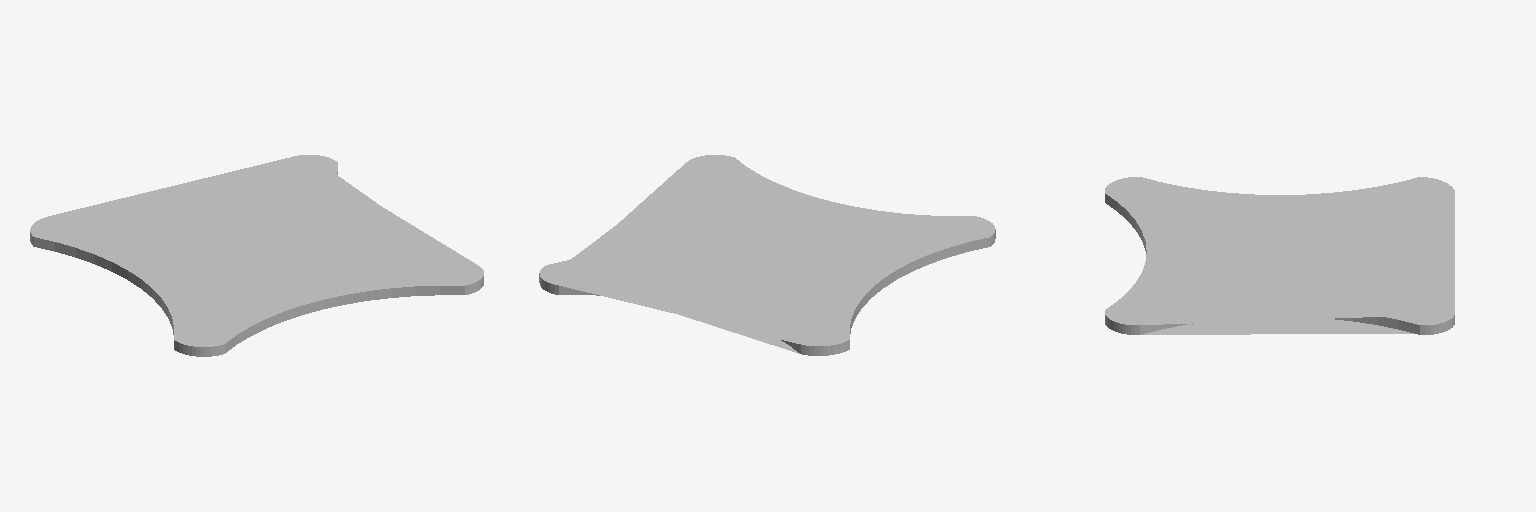
Rendered from quadruped_base.obj.
3 renders of one model, left to right at view 1: azimuth 30°, elevation 25°; view 2: azimuth 150°, elevation 25°; view 3: azimuth 270°, elevation 25°, orthographic.
Parts seen in each view (by area): view 1: Mesh1 Model; view 2: Mesh1 Model; view 3: Mesh1 Model.
Boxes of the visible parts, box(x1,y1,x2,y2) form: Mesh1 Model: box(30, 155, 483, 356); Mesh1 Model: box(539, 155, 995, 355); Mesh1 Model: box(1105, 177, 1454, 334).
Size of the model in its own units: 0.153 by 0.0047 by 0.1526.